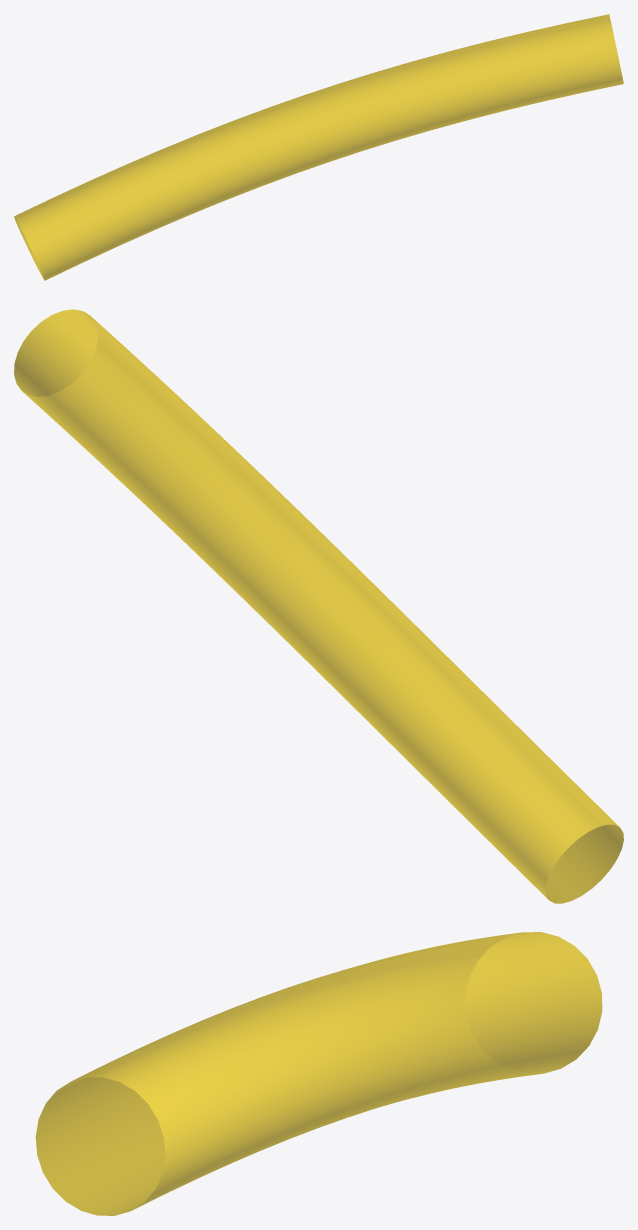
File: Event_402970704_track_41.fbx
3 renders of one model, top to bottom at view 1: azimuth 30°, elevation 25°; view 2: azimuth 150°, elevation 25°; view 3: azimuth 270°, elevation 25°, orthographic. The views are drawn at different scales.
Visible parts, largest first — view 1: Model; view 2: Model; view 3: Model.
Part boxes in pixels (box(x1,y1,x2,y2)): Model: box(14, 14, 623, 280); Model: box(14, 309, 623, 903); Model: box(35, 932, 602, 1215).
Bounding box in the file's own units: 0.3279 × 0.1382 × 0.1586.
